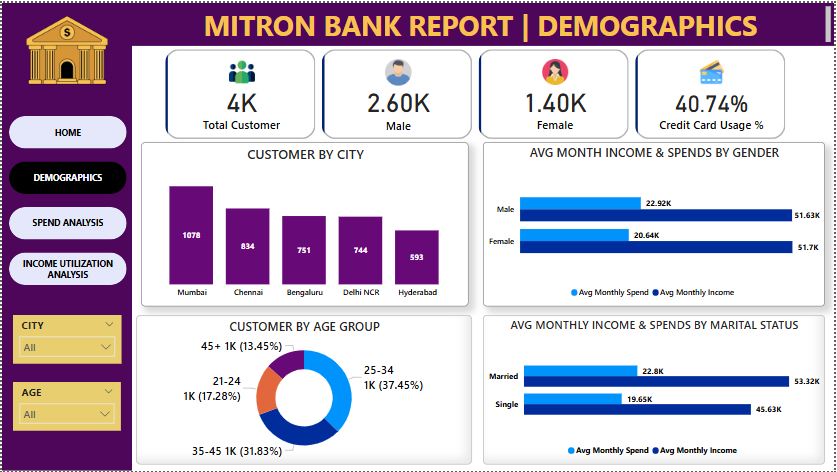

The page's visual inventory and layout, read from the dashboard file:
{"tool":"powerbi","page":{"name":"DEMOGRAPHICS","canvas":[1280,720],"ordinal":1},"visuals":[{"type":"shape","box":[0,0,1280.2,66.2],"z":0},{"type":"shape","box":[0,0,200.2,720],"z":1000},{"type":"image","box":[0,0,200.2,158.4],"z":2000},{"type":"textbox","box":[200.2,0,1080,66.2],"z":3000},{"type":"cardVisual","fields":{"Data":["customer.Total Customer","customer.Male","customer.Female","customer.Credit Card Usage %"]},"box":[246.2,66.2,967.7,148.3],"z":4000},{"type":"clusteredBarChart","title":"AVG MONTH INCOME & SPENDS BY GENDER","fields":{"Category":["customer.gender"],"Y":["spends.Avg Monthly Spend","spends.Avg Monthly Income"]},"box":[740.2,214.6,525.6,253.4],"z":5000},{"type":"columnChart","title":"CUSTOMER BY CITY","fields":{"Category":["customer.city"],"Y":["customer.Total Customer"]},"box":[213.1,214.6,504,253.4],"z":6000},{"type":"clusteredBarChart","title":"AVG MONTHLY INCOME & SPENDS BY MARITAL STATUS","fields":{"Category":["customer.marital status"],"Y":["spends.Avg Monthly Spend","spends.Avg Monthly Income"]},"box":[740.2,479.5,525.6,230.4],"z":7000},{"type":"donutChart","title":"CUSTOMER  BY AGE GROUP","fields":{"Category":["customer.age_group"],"Y":["customer.Total Customer"]},"box":[205.9,479.5,517,230.4],"z":8000},{"type":"slicer","fields":{"Values":["customer.age_group"]},"box":[17.3,583.2,165.6,74.9],"z":9000},{"type":"slicer","fields":{"Values":["customer.city"]},"box":[17.3,479.5,167,74.9],"z":10000},{"type":"pageNavigator","box":[10.1,174.2,181.4,260.6],"z":11000}]}

Visuals, with their boxes in screenshot pixels (x1, y1, x2, y2), scaled from the page's 1280x720 canvas onto the 837x472 screenshot:
shape: [0,0,836,43]
shape: [0,0,131,471]
image: [0,0,131,104]
textbox: [131,0,836,43]
cardVisual - customer.Total Customer x customer.Male: [161,43,794,141]
"AVG MONTH INCOME & SPENDS BY GENDER" clusteredBarChart: [484,141,828,307]
"CUSTOMER BY CITY" columnChart: [139,141,469,307]
"AVG MONTHLY INCOME & SPENDS BY MARITAL STATUS" clusteredBarChart: [484,314,828,465]
"CUSTOMER  BY AGE GROUP" donutChart: [135,314,473,465]
slicer - customer.age_group: [11,382,120,431]
slicer - customer.city: [11,314,121,363]
pageNavigator: [7,114,125,285]
